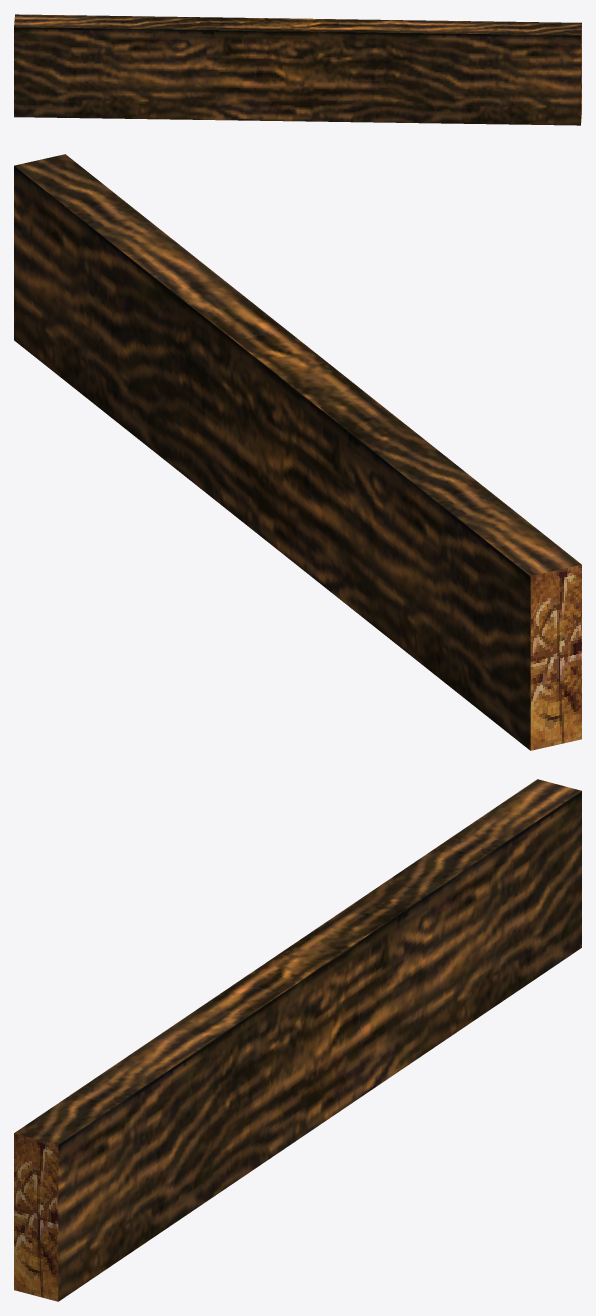
Rendered from OVERHILL_A_01_BOX81.fbx.
The picture shows the model from 3 angles, top to bottom: view 1: azimuth 30°, elevation 25°; view 2: azimuth 150°, elevation 25°; view 3: azimuth 270°, elevation 25°; orthographic projection. The views are drawn at different scales.
Visible parts, largest first — view 1: OVERHILL_A_01_BOX81; view 2: OVERHILL_A_01_BOX81; view 3: OVERHILL_A_01_BOX81.
Part boxes in pixels (x1,y1,x2,y2): OVERHILL_A_01_BOX81: [14, 14, 581, 125]; OVERHILL_A_01_BOX81: [14, 154, 581, 750]; OVERHILL_A_01_BOX81: [14, 779, 581, 1301].
Bounding box in the file's own units: 8268 × 1653 × 5425.
Materials: 2 (2 with a texture image).
